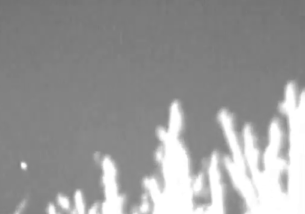Target: (22, 162, 27, 169)
